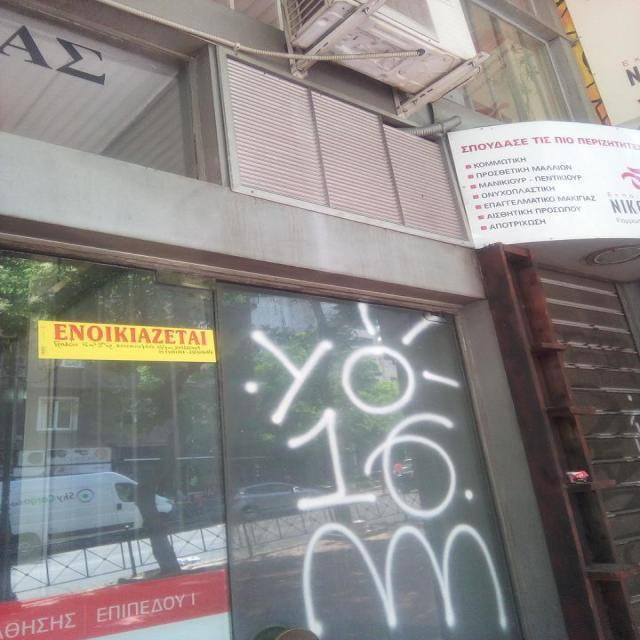nonspitting: (245, 302, 507, 628)
